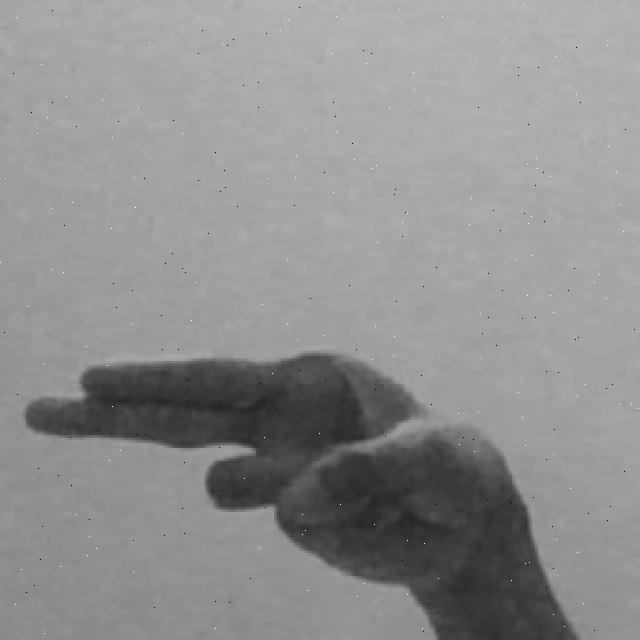H: (18, 343, 585, 640)
